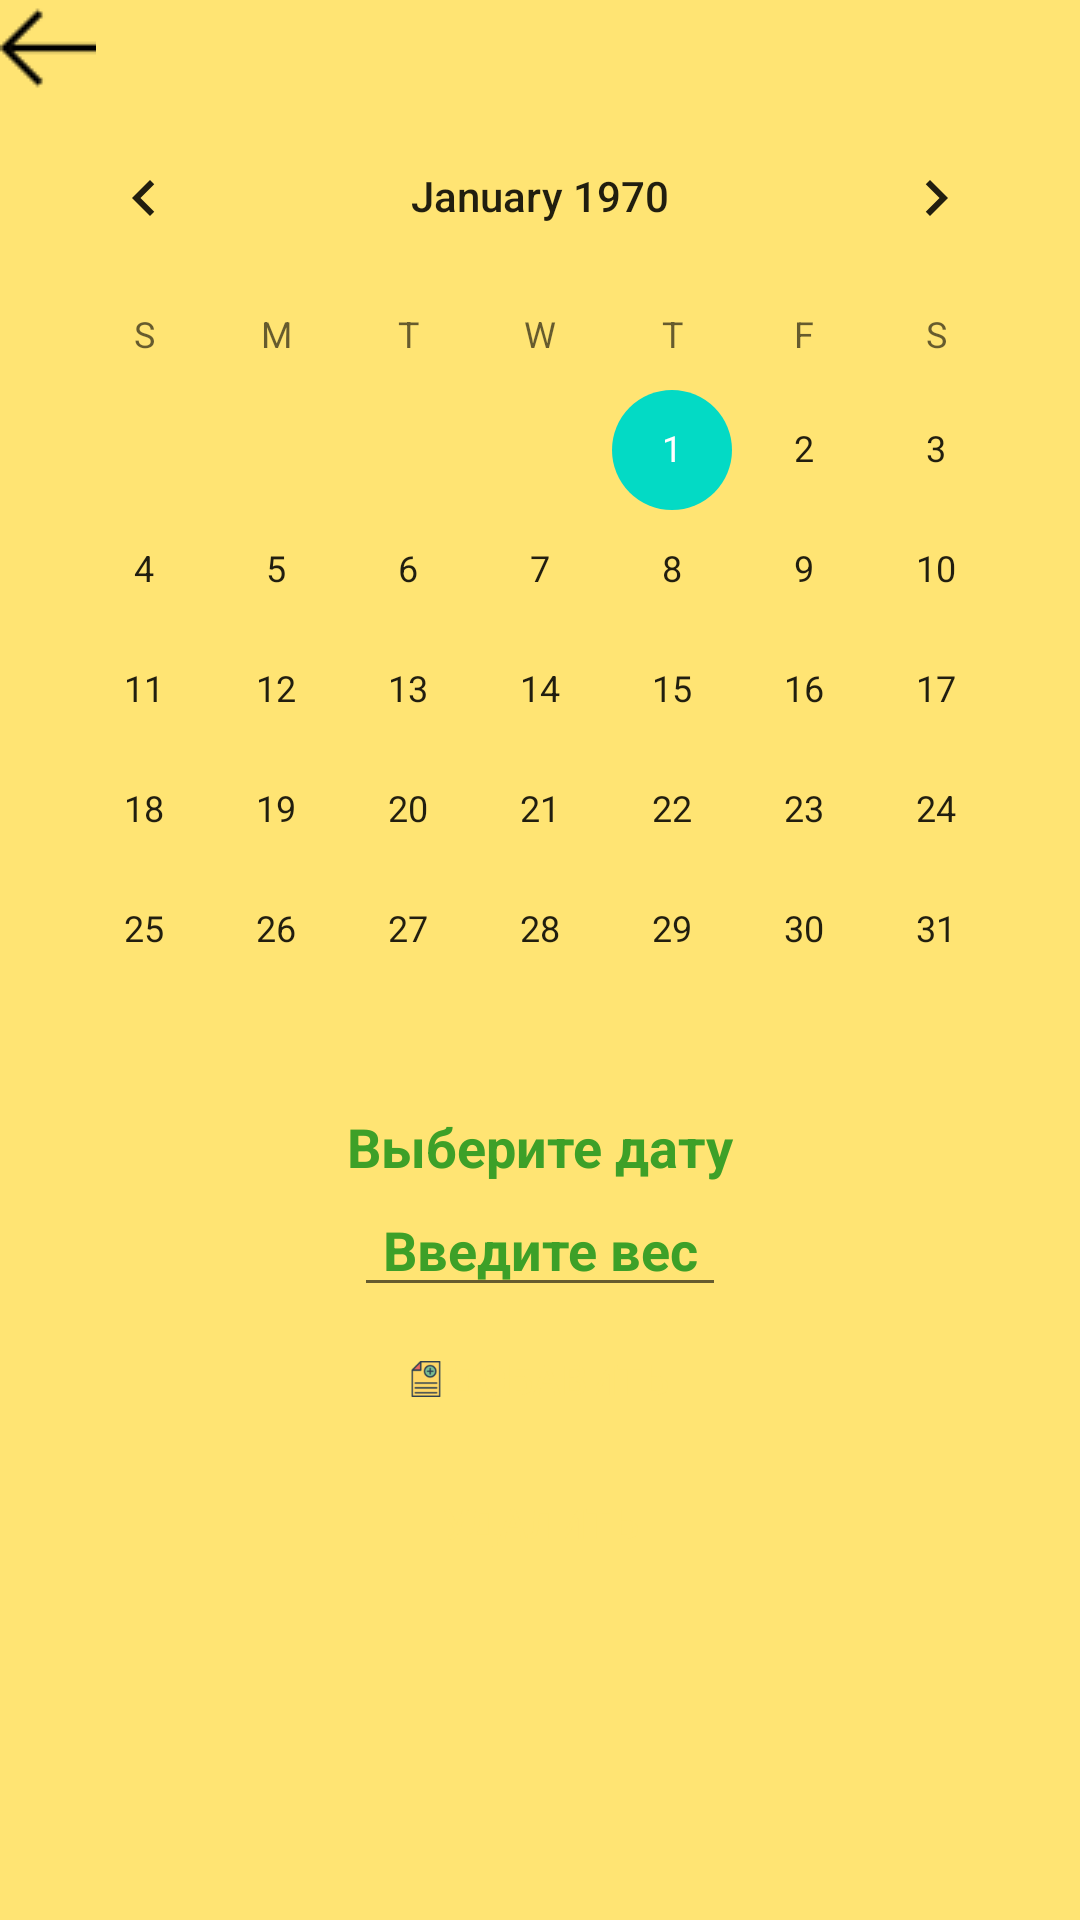

Locate icon controls on the screen. Image size 1080w x 1920h, boxes as {"x1": x1, "y1": y1, "x2": x2, "y2": y2}.
bac: {"x1": 0, "y1": 8, "x2": 96, "y2": 88}
